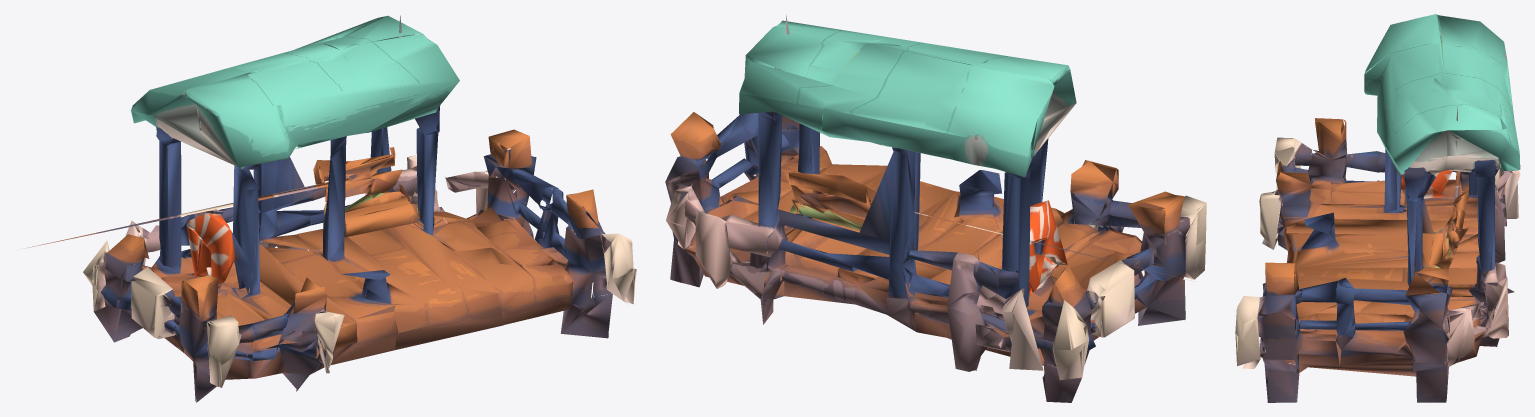
Rendered from M-13_05_waterbus_stop.glb.
3 views of the same model, side by side, from view 1: azimuth 30°, elevation 25°; view 2: azimuth 150°, elevation 25°; view 3: azimuth 270°, elevation 25° (orthographic). The views are drawn at different scales.
Visible parts, largest first — view 1: waterbus_stop; view 2: waterbus_stop; view 3: waterbus_stop.
Boxes of the visible parts, x1,y1,x2,y2 form: waterbus_stop: (24,15,636,402); waterbus_stop: (665,14,1206,402); waterbus_stop: (1235,14,1520,402).
Bounding box in the file's own units: 7.26 × 3.82 × 3.9.
1 material, 1 textured.
